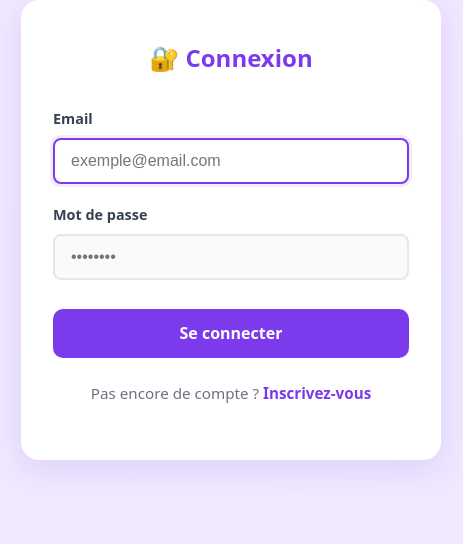
Test: Connexion — Validation des champs › doit afficher une erreur si le format de l'email est invalide
Type "noreply@invalid" into the field with placeholder "exemple@email.com".
click(231, 161); type("noreply@invalid")  # box x1=53 y1=138 x2=409 y2=184
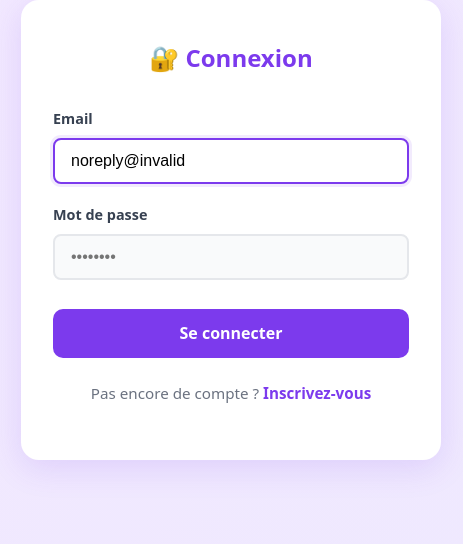
Click the button "Se connecter".
click(231, 333)  # box x1=53 y1=309 x2=409 y2=358
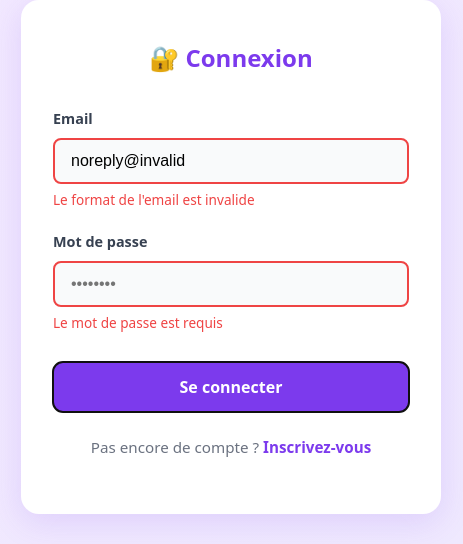
Check: the text "Le format de l'email est invalide" is shown, box x1=53 y1=190 x2=255 y2=209
